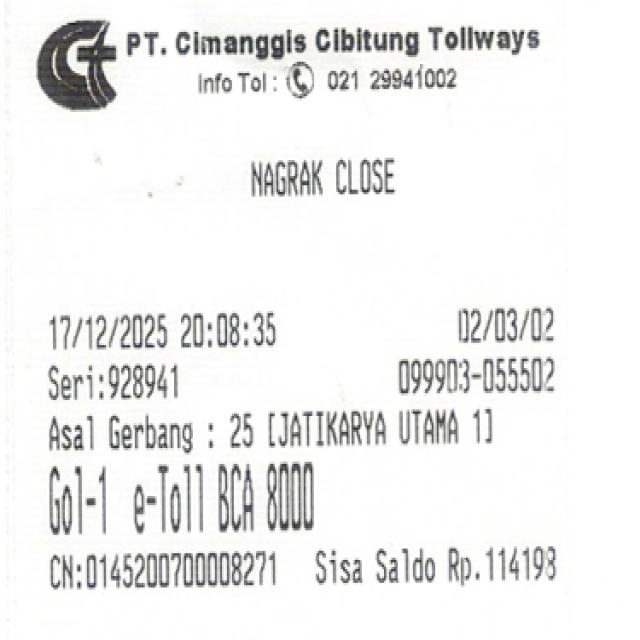date: (45, 308, 280, 355)
store: (118, 22, 543, 59)
total: (258, 462, 324, 540)
